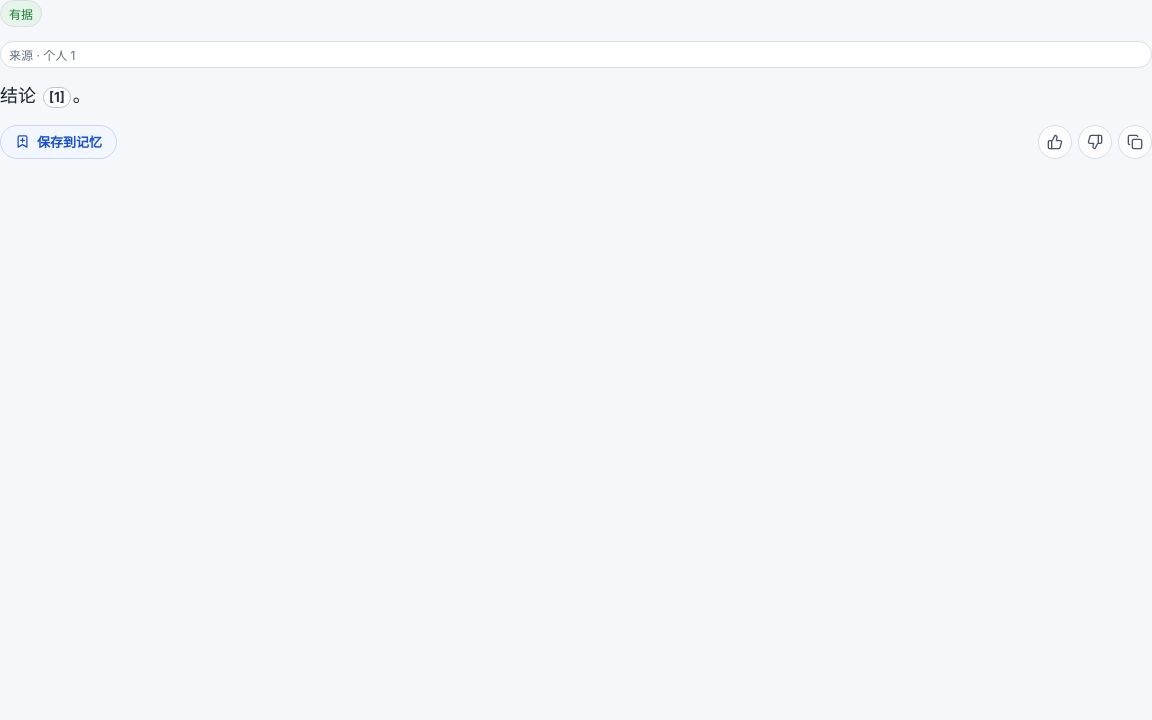
来源元素引用详情头同样显示界面词「原文」(同一个兜底直出的坑)
Step 1. Click the button "[1]" → (57, 98), box [43, 87, 71, 108]
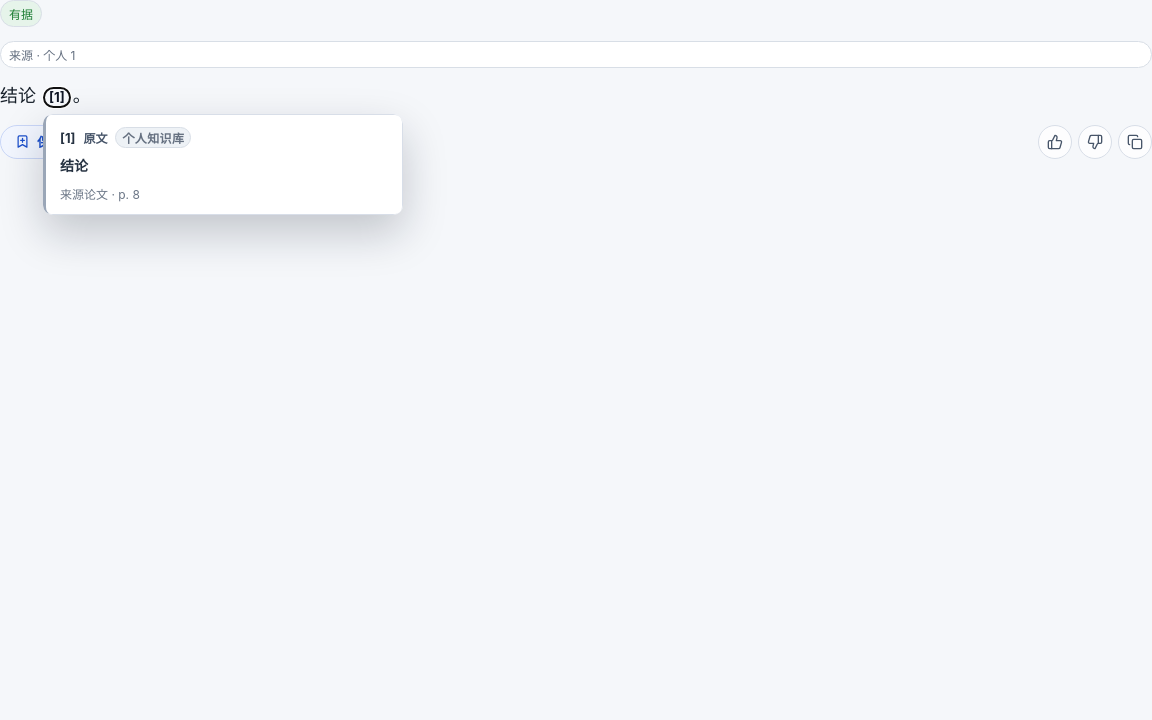
Result: the element with class "cite-detail-head" shows "原文" at [84, 131, 108, 146]
